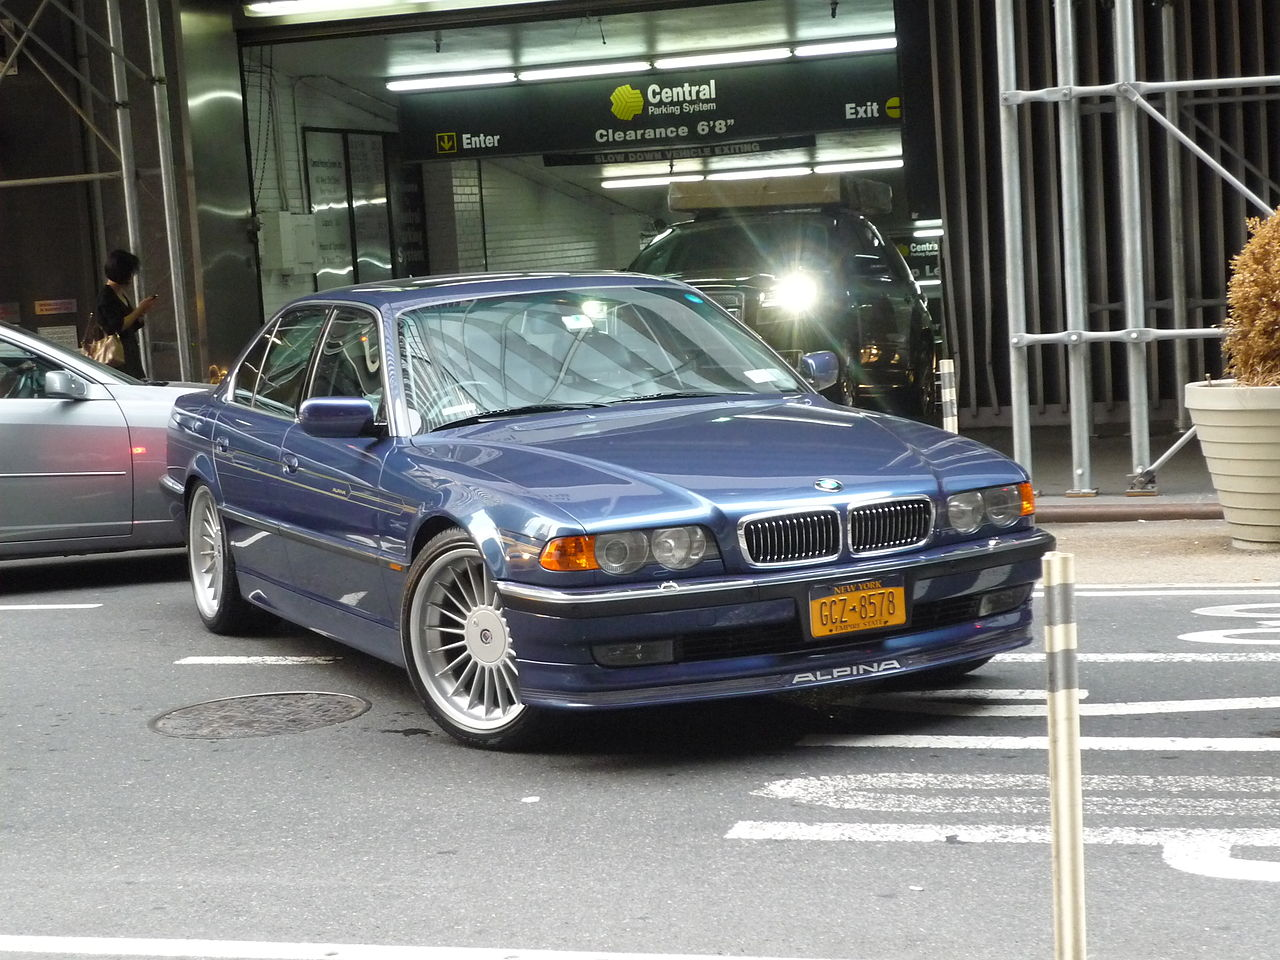plate: (808, 572, 907, 639)
